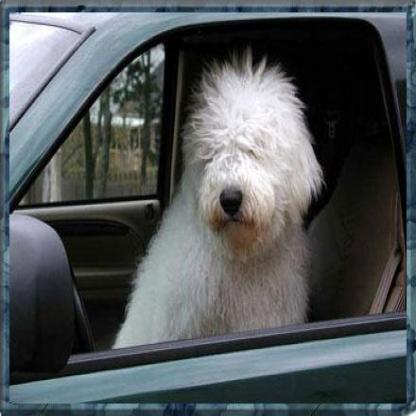komondor: (109, 50, 324, 352)
